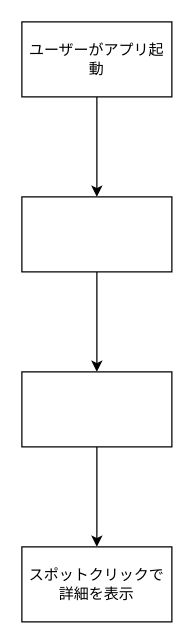
Some shapes in this 194 by 644 pixel diagram are drawn without their labels. Here are the shapes that lost their labels. From the top down, the box of each, then its label:
(21, 196, 172, 272): 現在の位置情報を中心とした地図が表示
(21, 371, 172, 447): 近くのスポットがピン表示
